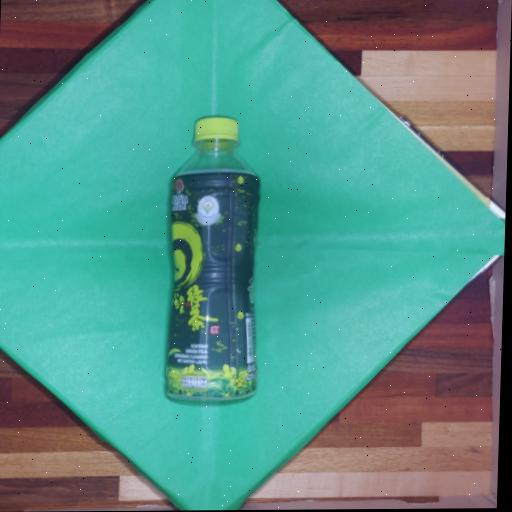bottle: (162, 117, 263, 408)
